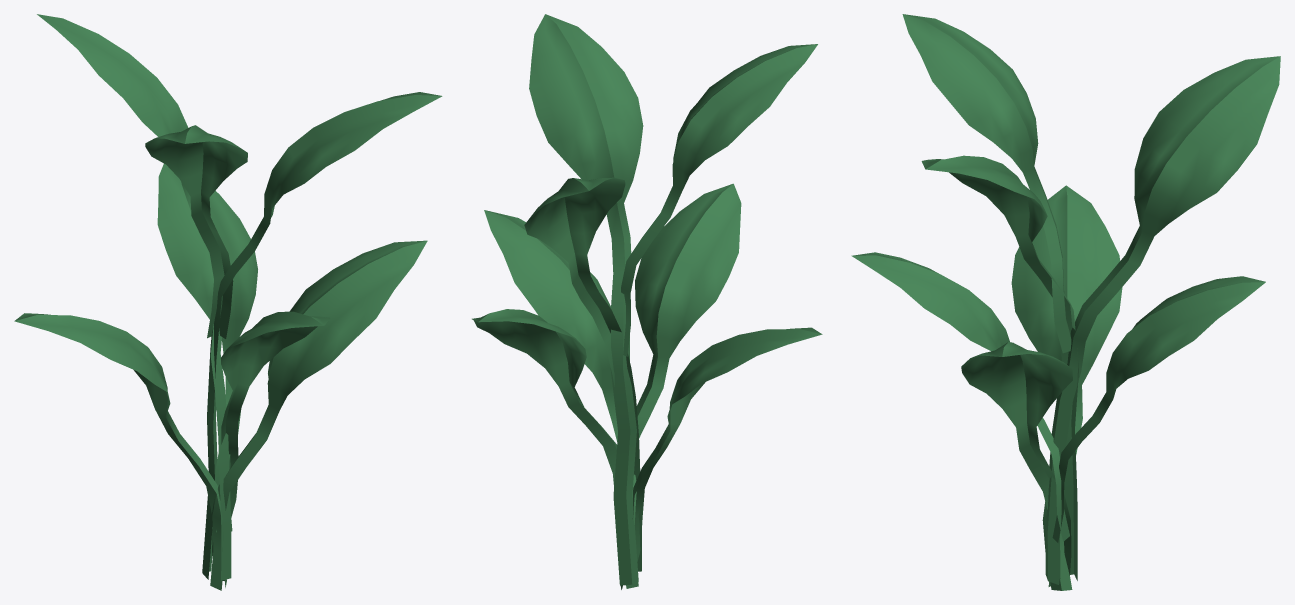
The model's file is tropical_small08.fbx.
3 views of the same model, side by side, from view 1: azimuth 30°, elevation 25°; view 2: azimuth 150°, elevation 25°; view 3: azimuth 270°, elevation 25° (orthographic). The views are drawn at different scales.
Visible parts, largest first — view 1: tropical_small08; view 2: tropical_small08; view 3: tropical_small08.
Boxes of the visible parts, left/top/right/bottom form: tropical_small08: left=14, top=14, right=442, bottom=590; tropical_small08: left=472, top=14, right=822, bottom=589; tropical_small08: left=851, top=14, right=1280, bottom=590.
Bounding box in the file's own units: 0.1065 × 0.1412 × 0.1057.
